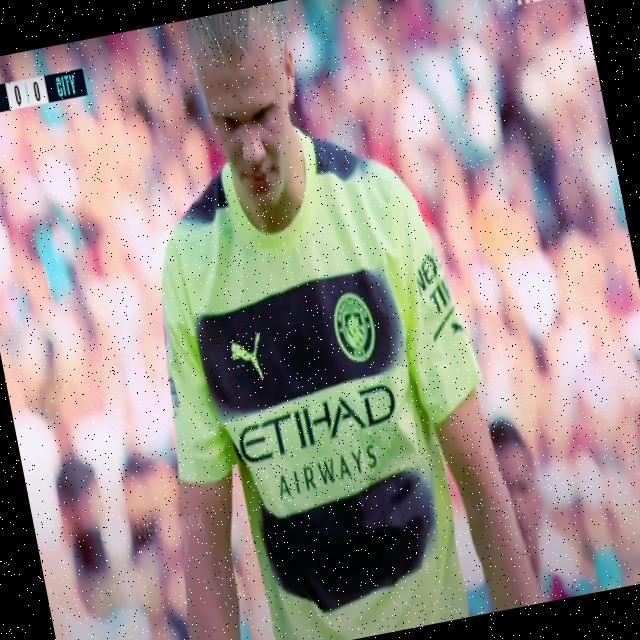Etihad Airways: (235, 381, 409, 507)
Puma: (228, 332, 268, 385)
